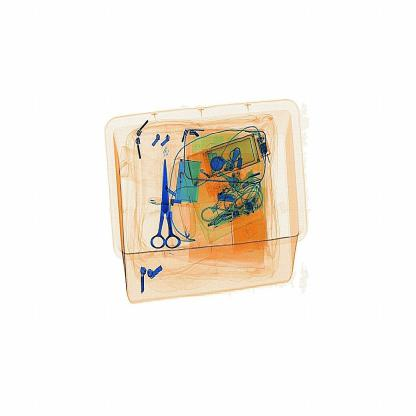gun: (151, 149, 186, 259)
